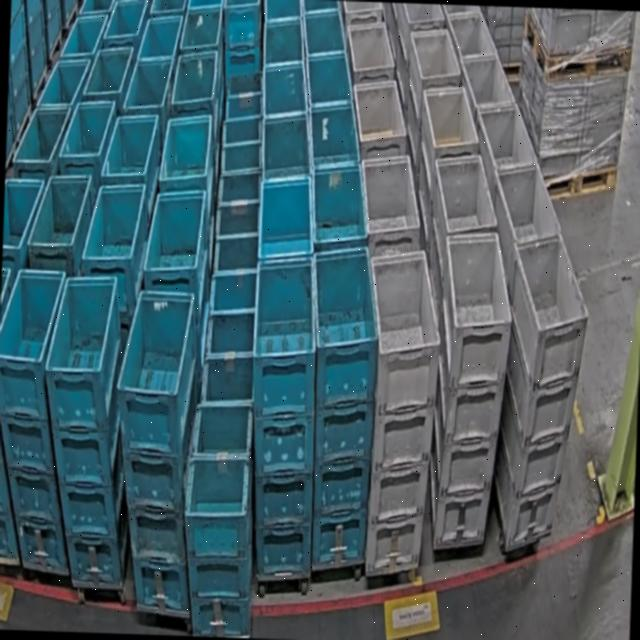4G: (492, 230, 592, 554), (426, 232, 514, 550), (359, 247, 444, 575)
B4: (37, 274, 136, 583), (108, 288, 199, 612), (304, 244, 382, 572), (0, 266, 80, 575), (245, 254, 319, 582)
B8: (179, 402, 257, 636)
